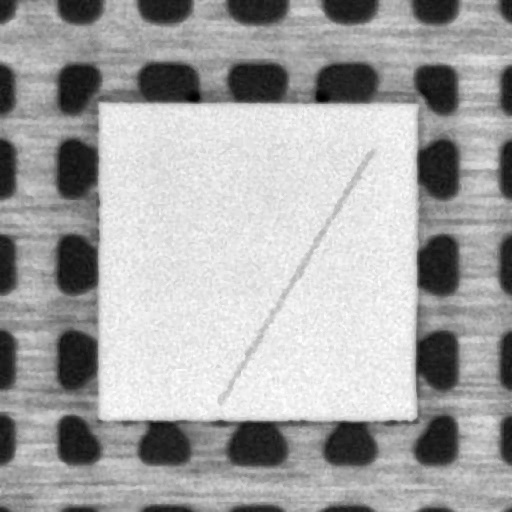DIE_CRACK: (218, 149, 370, 404)
